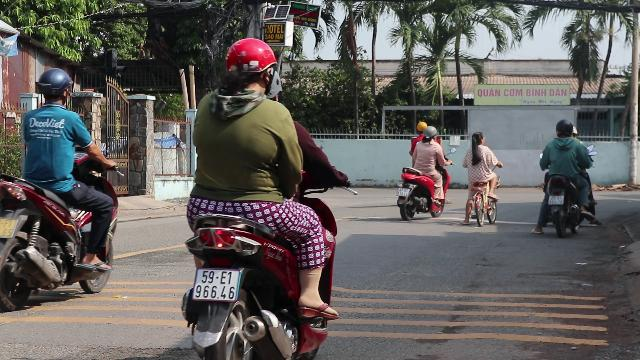helmet: (220, 38, 280, 94), (33, 66, 73, 106), (554, 118, 574, 138)
licenseplate: (193, 270, 239, 300), (548, 196, 564, 204)
motorcyclist: (174, 36, 352, 356), (0, 66, 120, 310), (533, 117, 597, 236)
